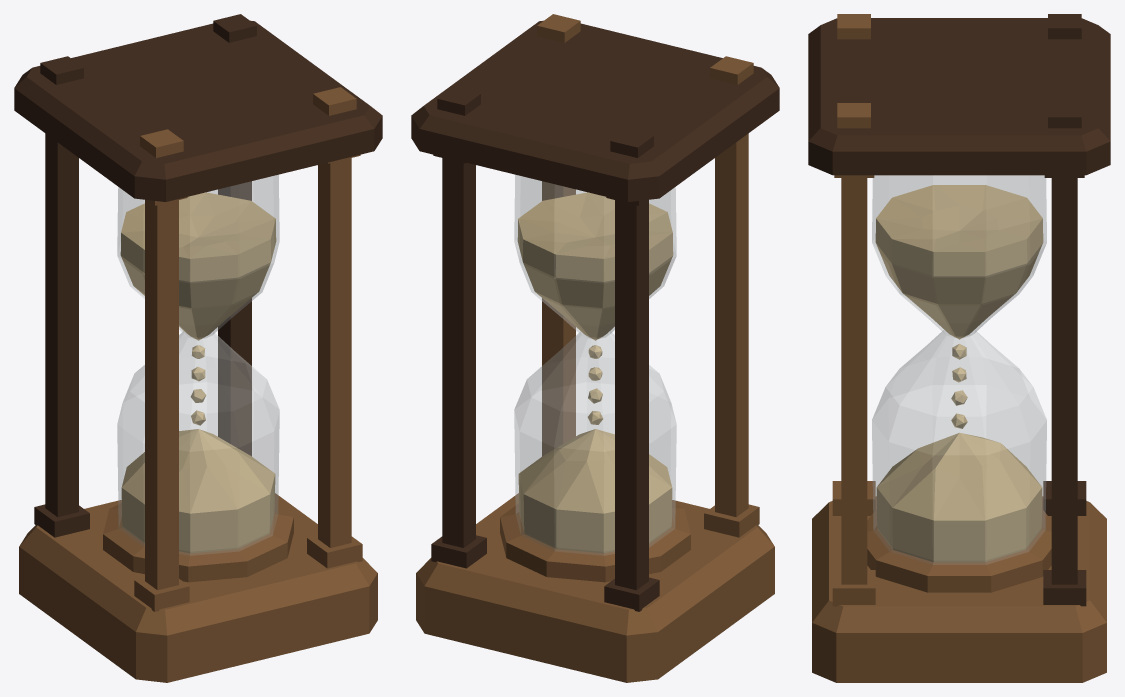
File: an-hourglass-with-sand-ec9f11.glb
The picture shows the model from 3 angles, left to right: view 1: azimuth 30°, elevation 25°; view 2: azimuth 150°, elevation 25°; view 3: azimuth 270°, elevation 25°; orthographic projection. The views are drawn at different scales.
Visible parts, largest first — view 1: frame, glass, sand-mass, sand-beads; view 2: frame, glass, sand-mass, sand-beads; view 3: frame, glass, sand-mass, sand-beads.
Part boxes in pixels (x1,y1,x2,y2): frame: (14, 14, 382, 682); glass: (117, 175, 279, 555); sand-mass: (120, 192, 276, 553); sand-beads: (190, 345, 206, 425); frame: (411, 14, 779, 682); glass: (514, 175, 676, 555); sand-mass: (517, 192, 673, 553); sand-beads: (587, 345, 603, 424); frame: (808, 14, 1110, 682); glass: (872, 175, 1046, 564); sand-mass: (875, 185, 1043, 562); sand-beads: (951, 344, 967, 428).
Bounding box in the file's own units: 0.1974 × 0.4 × 0.1974.
